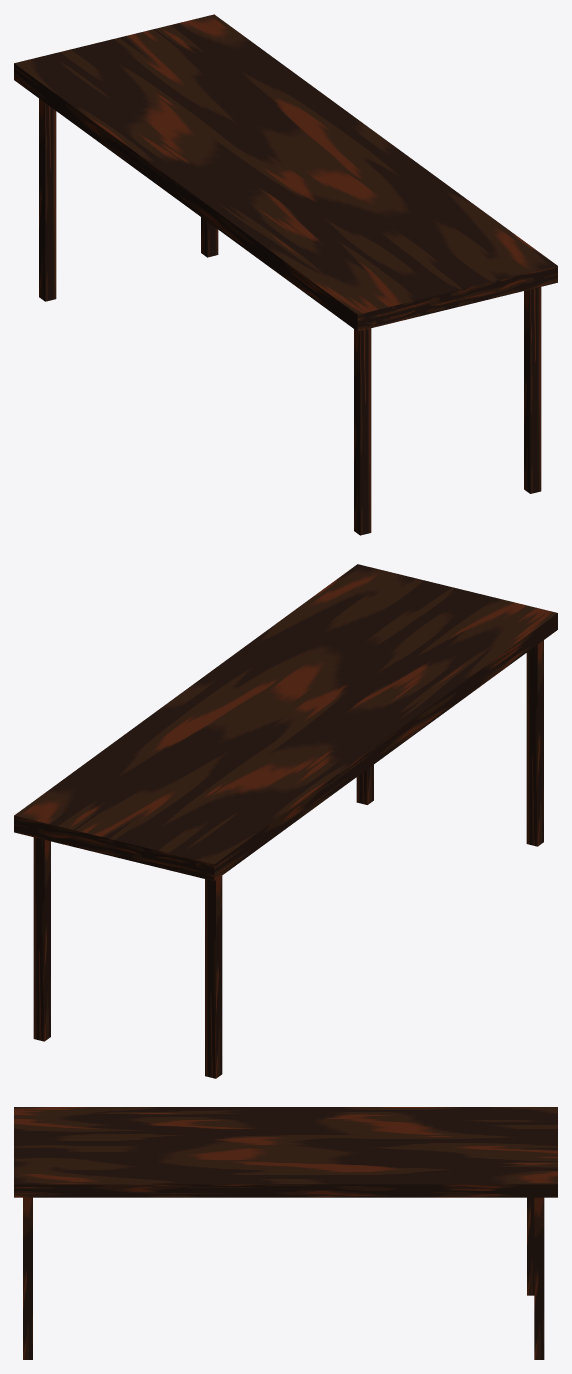
File: table.fbx
3 renders of one model, top to bottom at view 1: azimuth 30°, elevation 25°; view 2: azimuth 150°, elevation 25°; view 3: azimuth 270°, elevation 25°, orthographic. The views are drawn at different scales.
Parts seen in each view (by area): view 1: pCube1210; view 2: pCube1210; view 3: pCube1210.
Boxes of the visible parts, left/top/right/bottom form: pCube1210: left=14, top=14, right=557, bottom=535; pCube1210: left=14, top=564, right=557, bottom=1078; pCube1210: left=14, top=1107, right=557, bottom=1359.
Bounding box in the file's own units: 77.23 × 83.58 × 229.
1 material, 1 textured.
